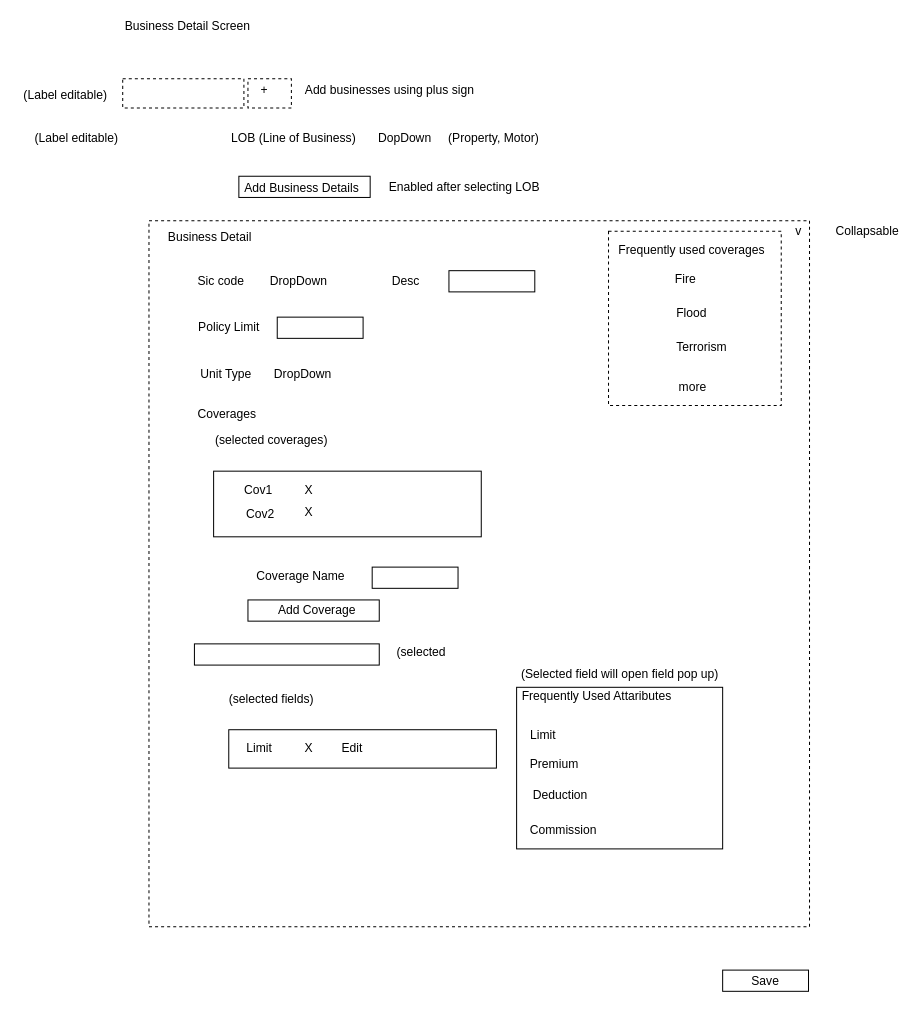
The diagram is 920 pixels wide and 1009 high, and some of its shapes have lost their labels. The centre of each missing label's shape, as x and y in pixels:
"Add Coverage Attributes" goes at point 286,654.
"Business 1" goes at point 183,93.
